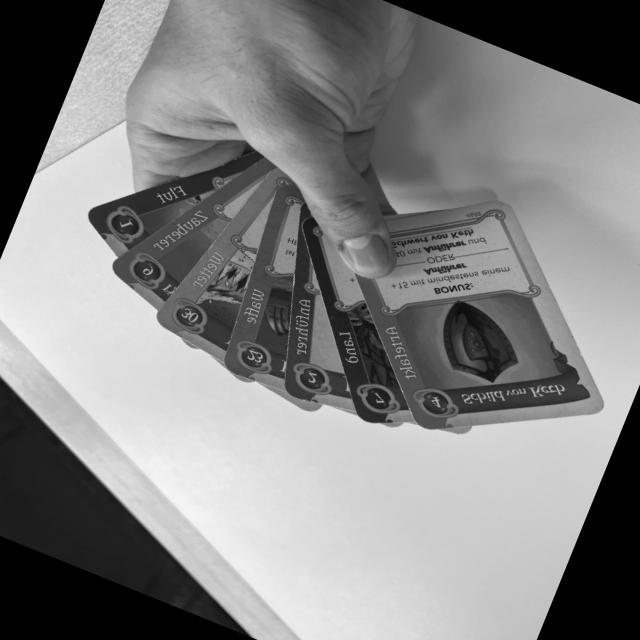Beast Master: (107, 156, 276, 309)
Blizzard: (149, 166, 275, 360)
Forest: (298, 216, 412, 423)
Fountain Of Life: (83, 150, 264, 257)
Princess: (284, 223, 356, 413)
Shield Of Keth: (354, 198, 609, 431)
Warship: (221, 185, 301, 391)
